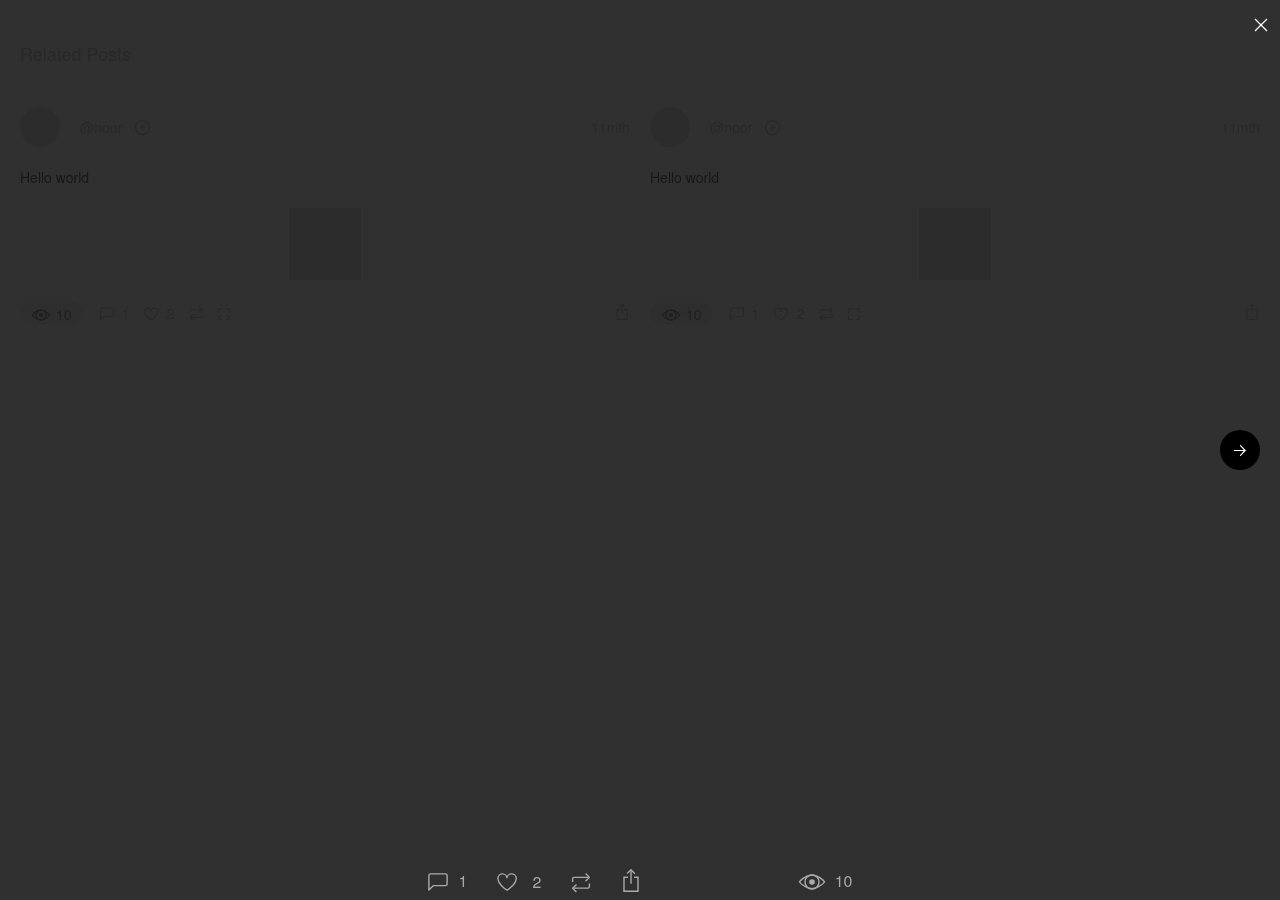
Test case: RelatedPosts › sends a signed-in viewer to the related post from its comment tool, here and in its lightbox
Earlier steps of the test are not shown.
Click the button named "Comments": click(447, 882) [412,871,482,892]
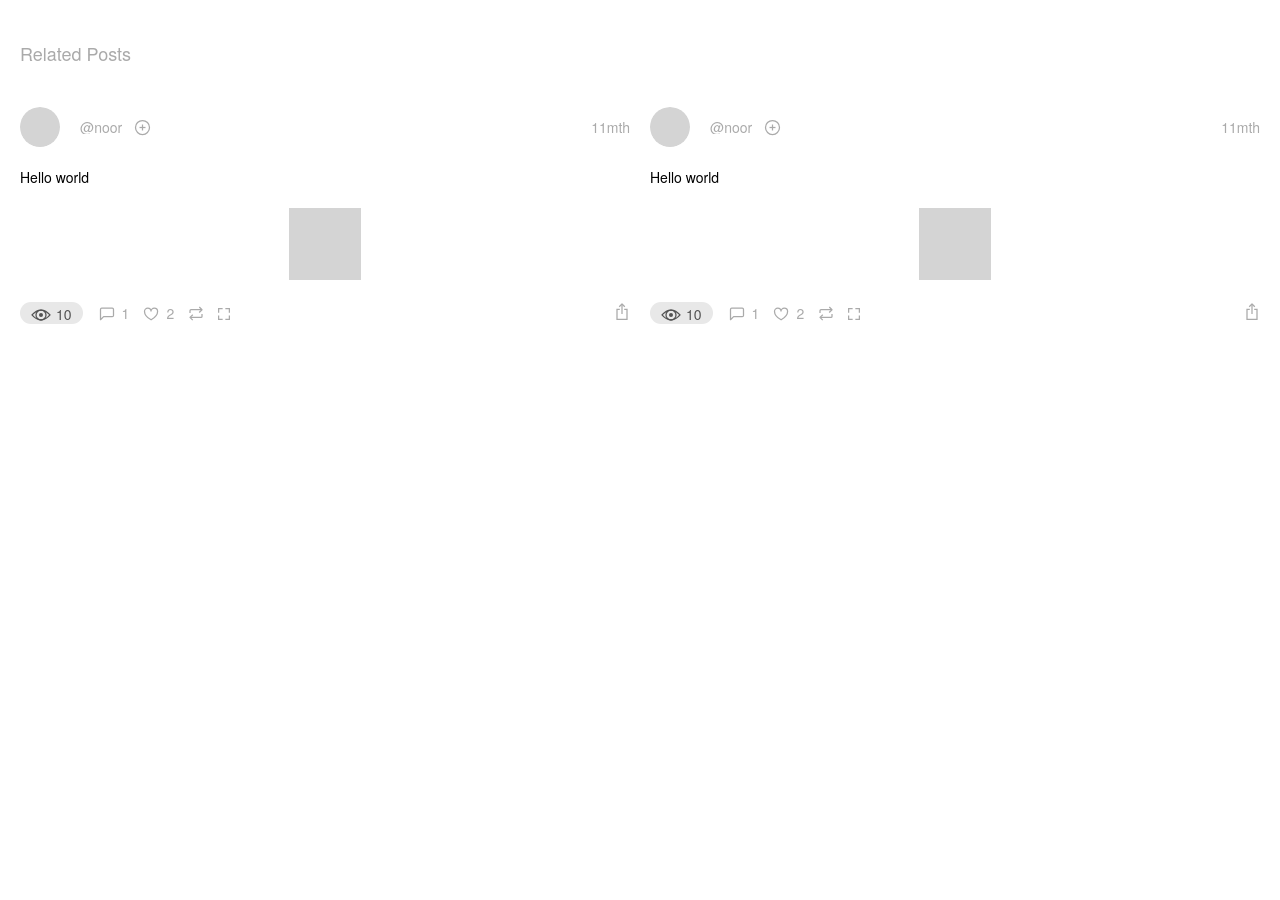
Result: the text "1 2 10" is gone
